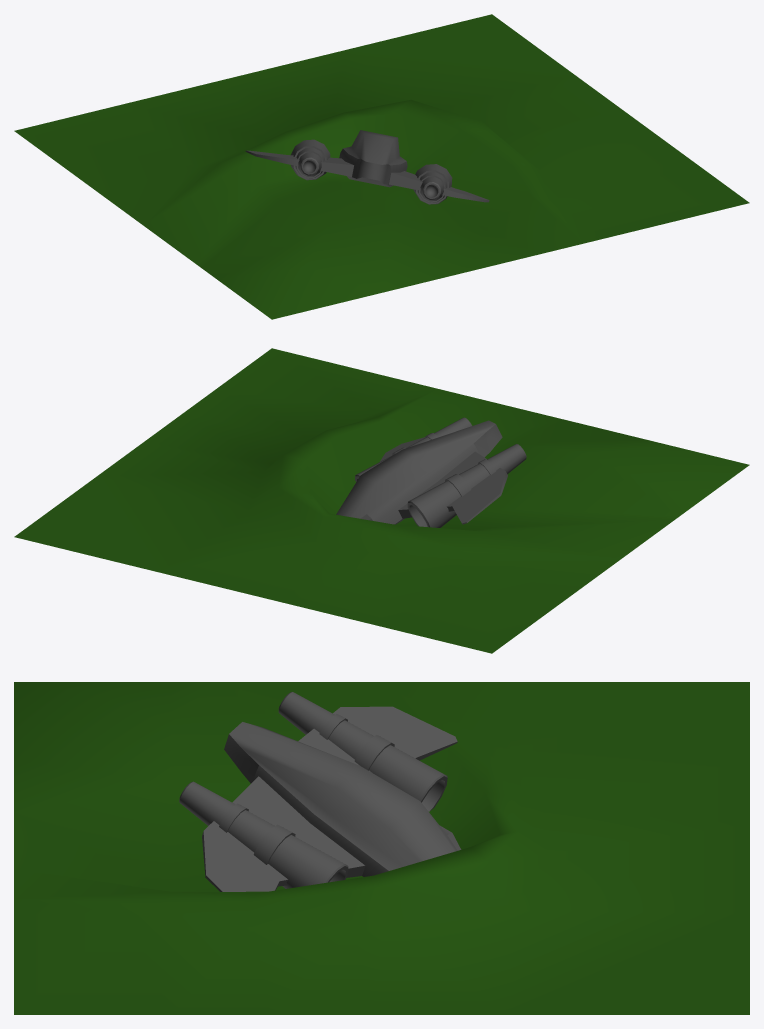
File: SM_CrashedShipTerrain.fbx
3 renders of one model, top to bottom at view 1: azimuth 30°, elevation 25°; view 2: azimuth 150°, elevation 25°; view 3: azimuth 270°, elevation 25°, orthographic. The views are drawn at different scales.
Parts seen in each view (by area): view 1: SM_CrashedShipTerrain; view 2: SM_CrashedShipTerrain; view 3: SM_CrashedShipTerrain.
Boxes of the visible parts, x1=… form: SM_CrashedShipTerrain: x1=14, y1=14, x2=749, y2=319; SM_CrashedShipTerrain: x1=14, y1=348, x2=749, y2=653; SM_CrashedShipTerrain: x1=14, y1=682, x2=749, y2=1014.
Size of the model in its own units: 3035 by 2836 by 547.
